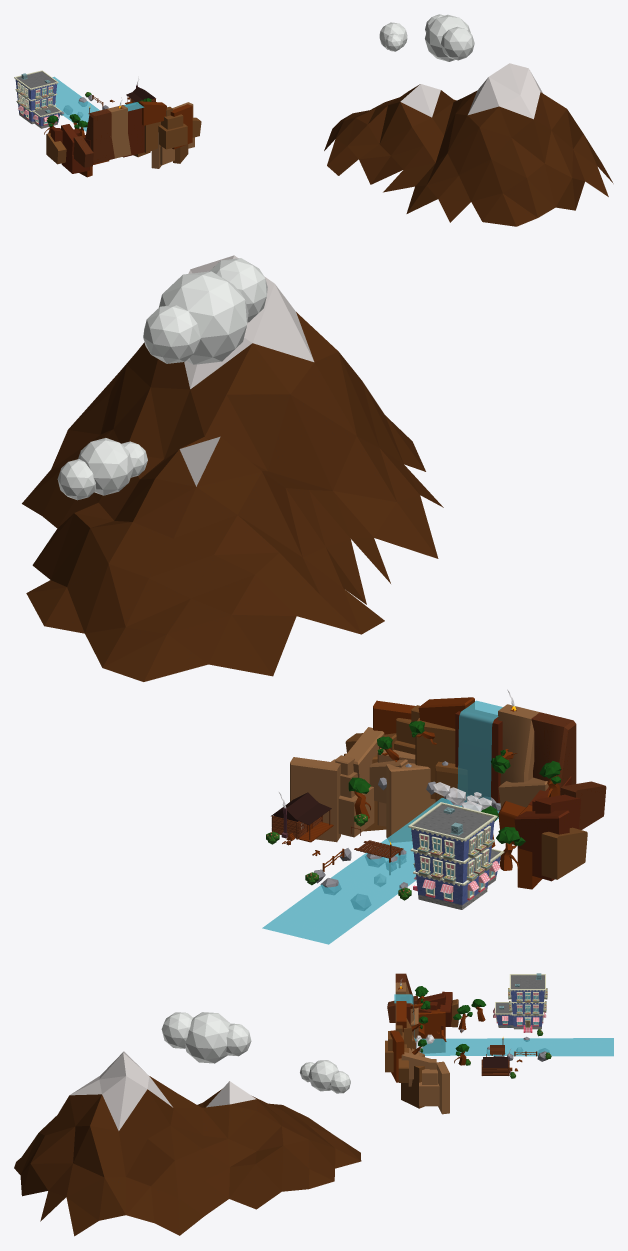
The picture shows the model from 3 angles, top to bottom: view 1: azimuth 30°, elevation 25°; view 2: azimuth 150°, elevation 25°; view 3: azimuth 270°, elevation 25°; orthographic projection. The views are drawn at different scales.
Visible parts, largest first — view 1: pCube1_Madera_3_0, pPlane2_Agua_0, pCube2_Walls_0, pCube28_Roof1_0, pCube3_Window_B_0; view 2: pCube1_Madera_3_0, pPlane2_Agua_0, pCube2_Walls_0, pCube28_Roof1_0, pCube3_Window_B_0, pPlatonic33_Vapor_0; view 3: pCube1_Madera_3_0, pPlane2_Agua_0, pCube2_Walls_0, pCube28_Roof1_0.
Boxes of the visible parts, x1,y1,x2,y2 form: pCube1_Madera_3_0: (44, 14, 613, 226); pPlane2_Agua_0: (52, 76, 144, 131); pCube2_Walls_0: (15, 80, 60, 126); pCube28_Roof1_0: (16, 71, 59, 115); pCube3_Window_B_0: (17, 82, 53, 124); pCube1_Madera_3_0: (22, 255, 606, 910); pPlane2_Agua_0: (262, 700, 502, 944); pCube2_Walls_0: (411, 820, 500, 904); pCube28_Roof1_0: (413, 804, 499, 858); pCube3_Window_B_0: (419, 825, 495, 900); pPlatonic33_Vapor_0: (279, 689, 514, 829); pCube1_Madera_3_0: (14, 973, 551, 1236); pPlane2_Agua_0: (394, 994, 613, 1056); pCube2_Walls_0: (496, 990, 544, 1026); pCube28_Roof1_0: (496, 975, 544, 1013).
Size of the model in its own units: 129 by 51.68 by 152.
Materials: 18 (18 with a texture image).
